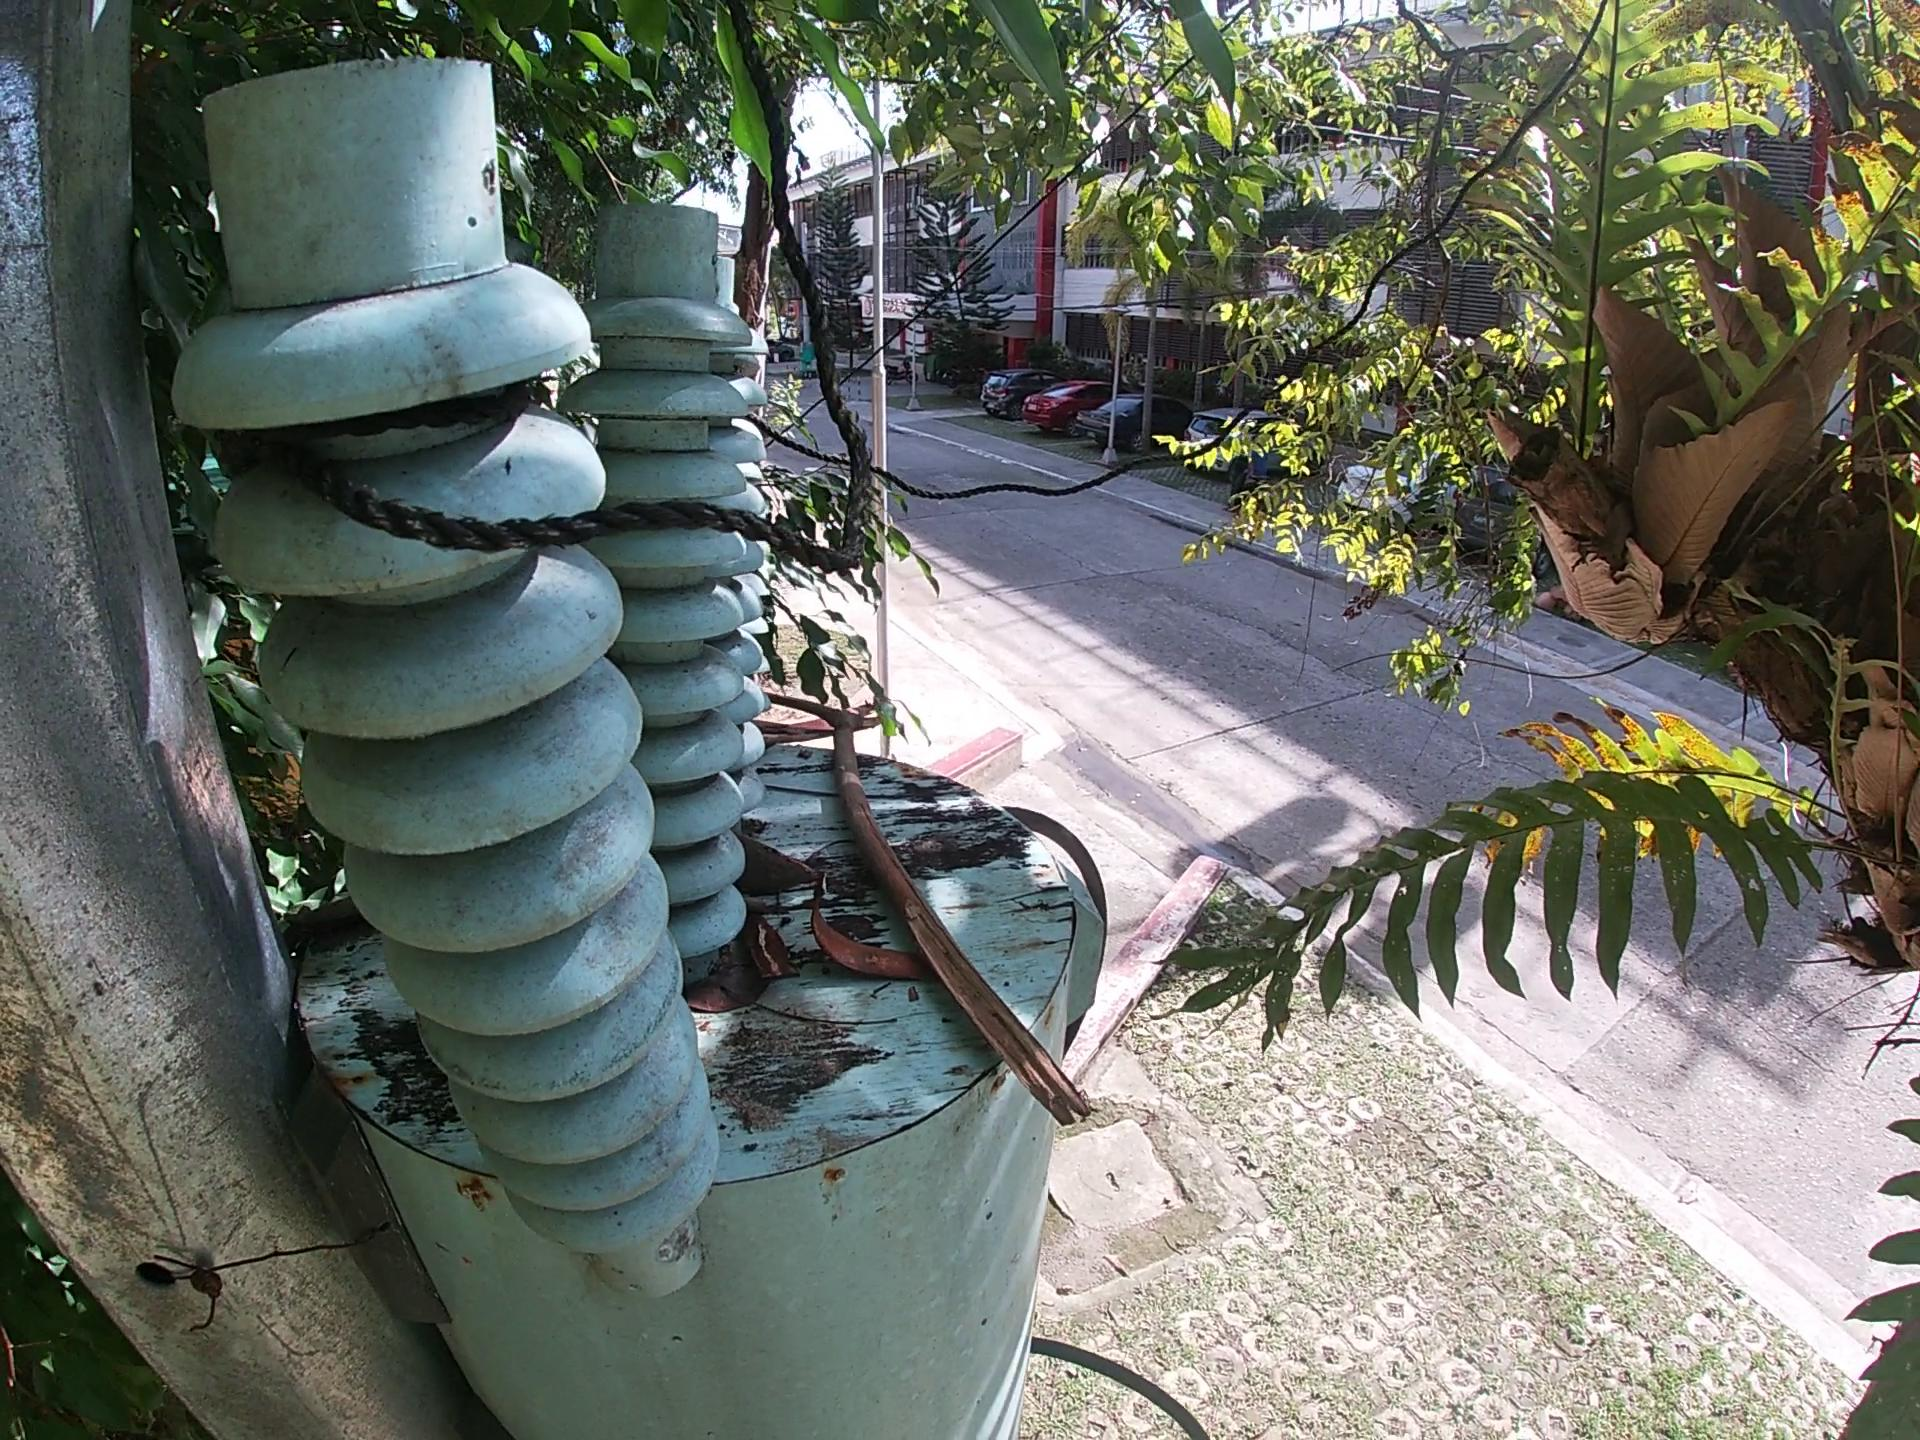leaf: (680, 967, 771, 1023)
mahogany fruit: (807, 876, 937, 985), (729, 835, 821, 888), (739, 914, 803, 979)
tree branch: (760, 682, 1105, 1133), (283, 895, 364, 939), (748, 718, 835, 756)
